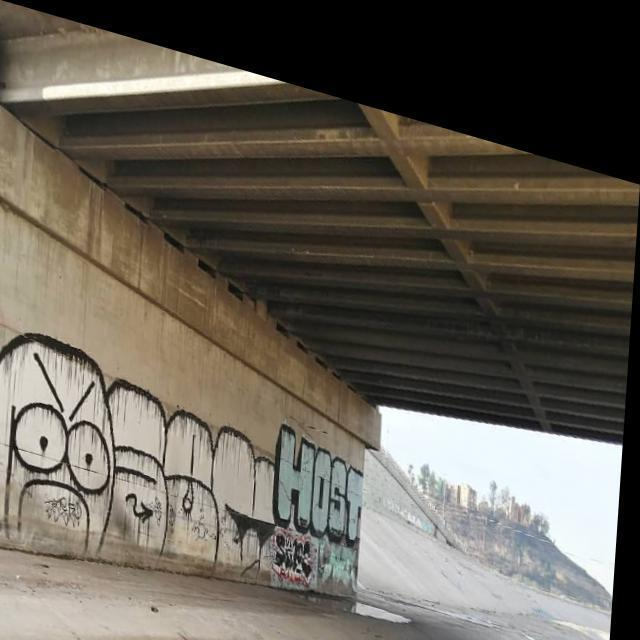-: (0, 315, 284, 574), (276, 405, 376, 531), (276, 508, 324, 574)
